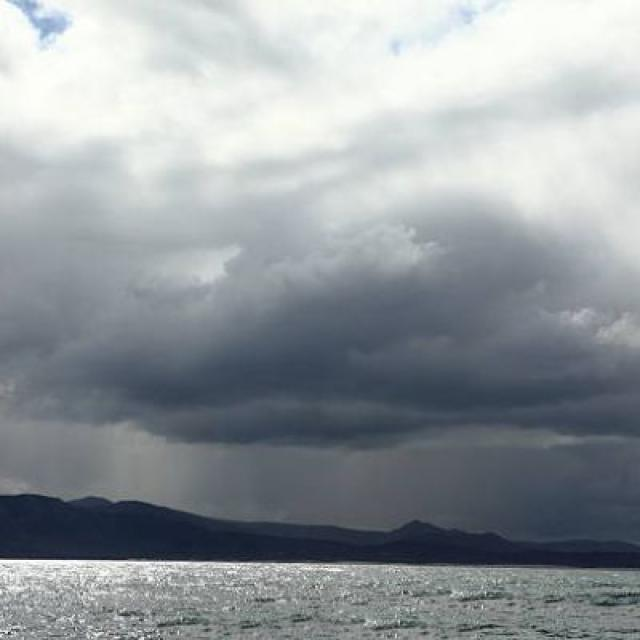nimbostratus: (0, 0, 640, 487)
